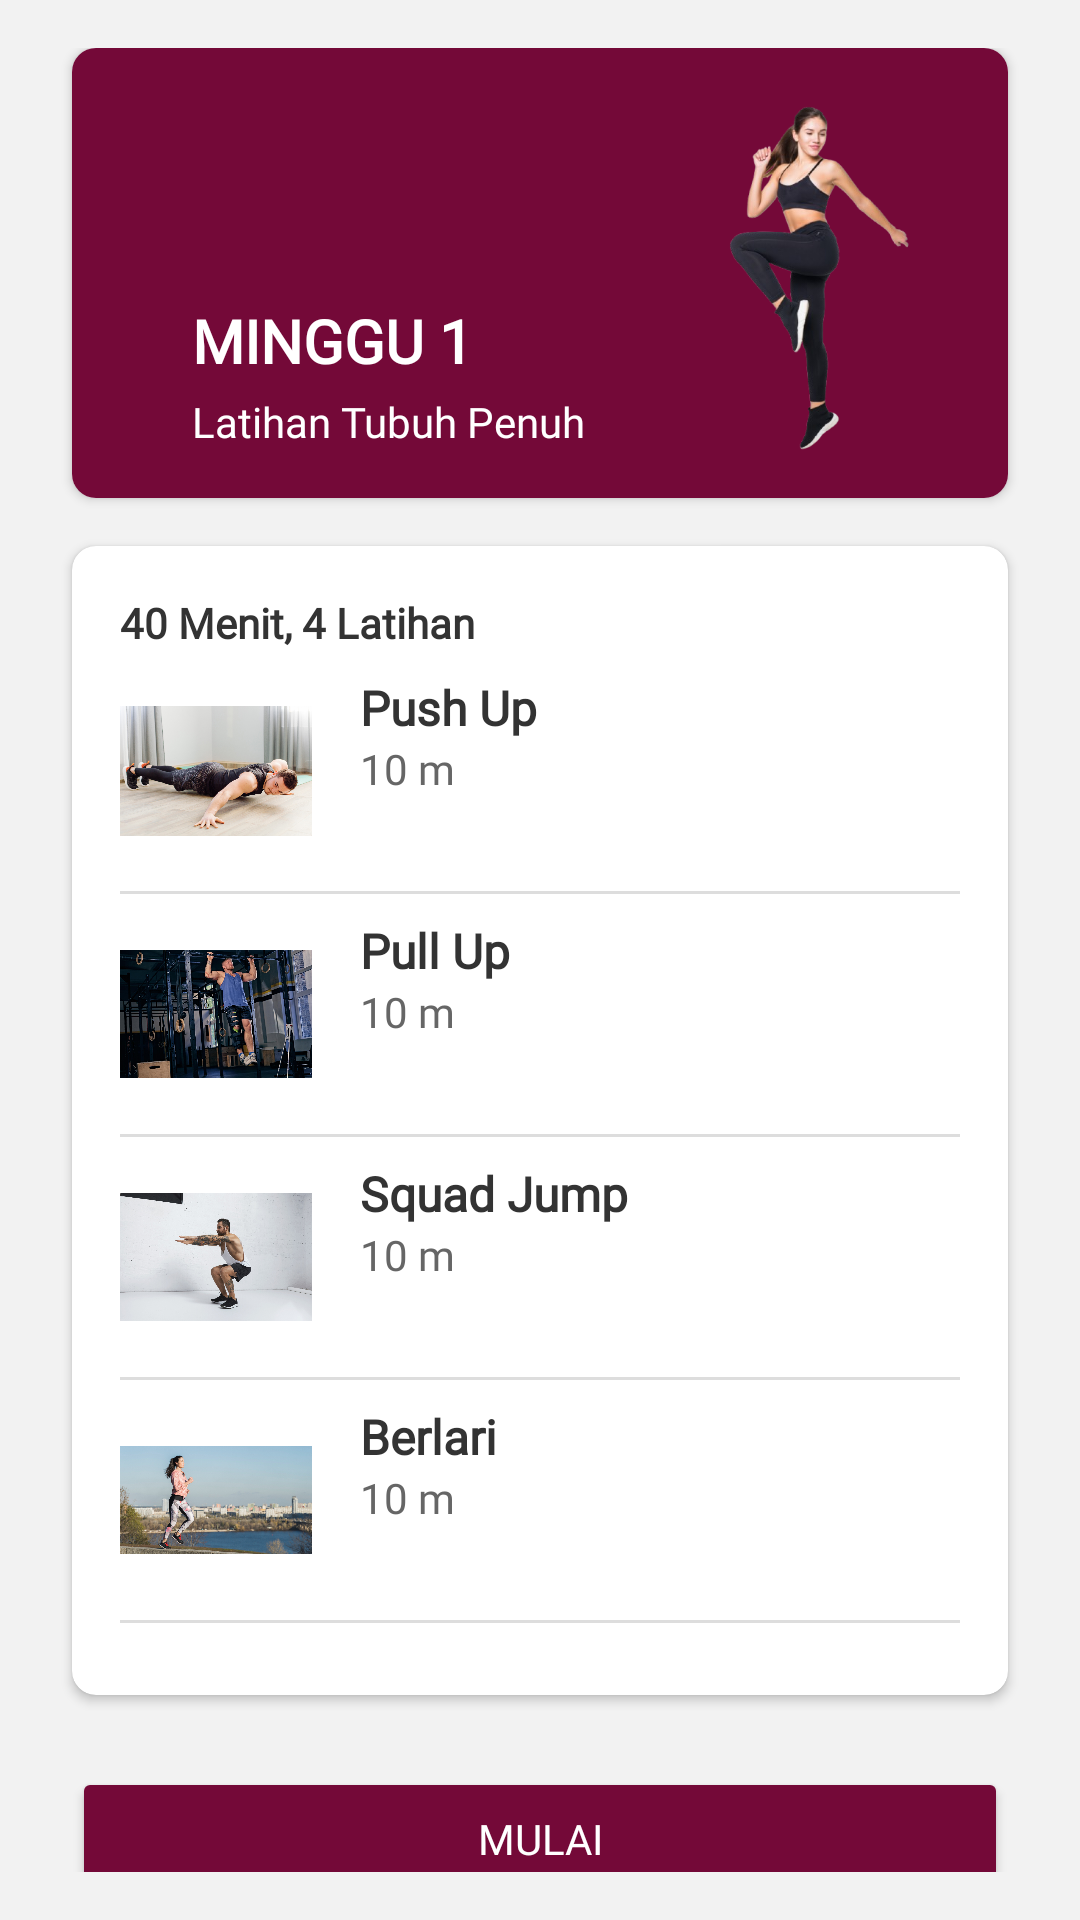

Screen size 1080×1920. Icon name, then its center in pixels as point (x, y):
female: point (819, 278)
run: point (216, 1500)
